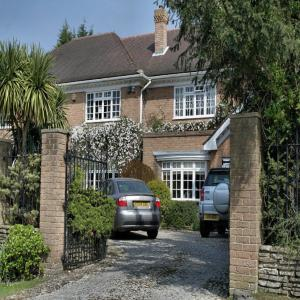Vehicle-registration-plate: (134, 202, 151, 208), (205, 215, 220, 221)
